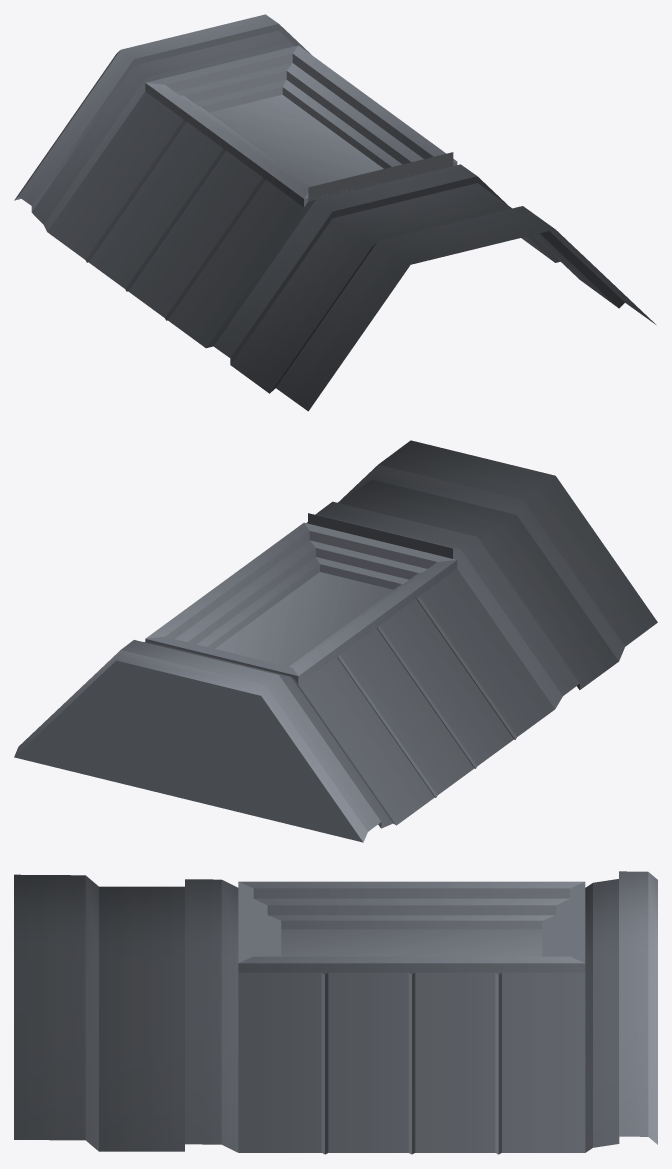
File: Pillar 03.FBX
3 renders of one model, top to bottom at view 1: azimuth 30°, elevation 25°; view 2: azimuth 150°, elevation 25°; view 3: azimuth 270°, elevation 25°, orthographic. The views are drawn at different scales.
Parts seen in each view (by area): view 1: Pillar 03; view 2: Pillar 03; view 3: Pillar 03.
Boxes of the visible parts, box(x1,y1,x2,y2) form: Pillar 03: box(14, 14, 655, 411); Pillar 03: box(14, 440, 657, 842); Pillar 03: box(14, 871, 657, 1154).
Bounding box in the file's own units: 200 × 75.66 × 292.
